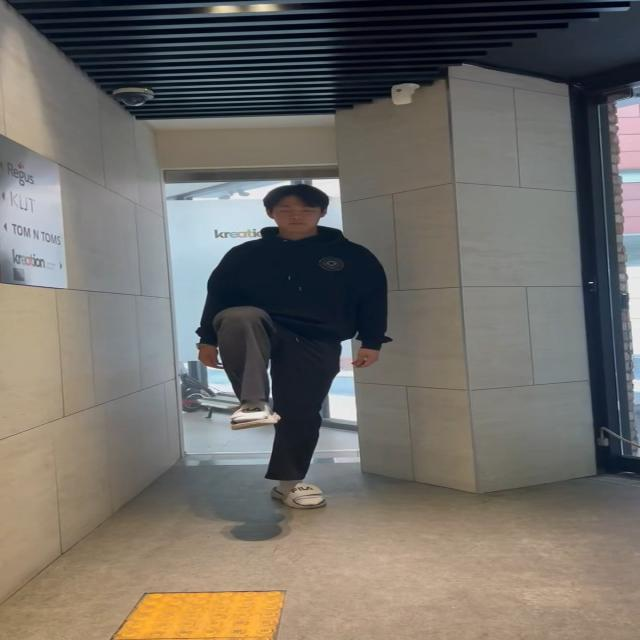knee: (187, 294, 300, 441)
